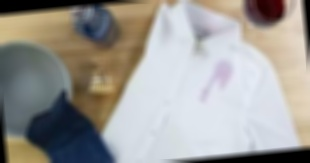wine: (208, 55, 239, 94), (193, 79, 213, 105)
